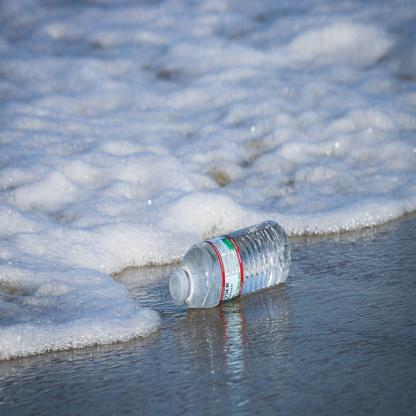plastic bottle: (168, 220, 291, 306)
